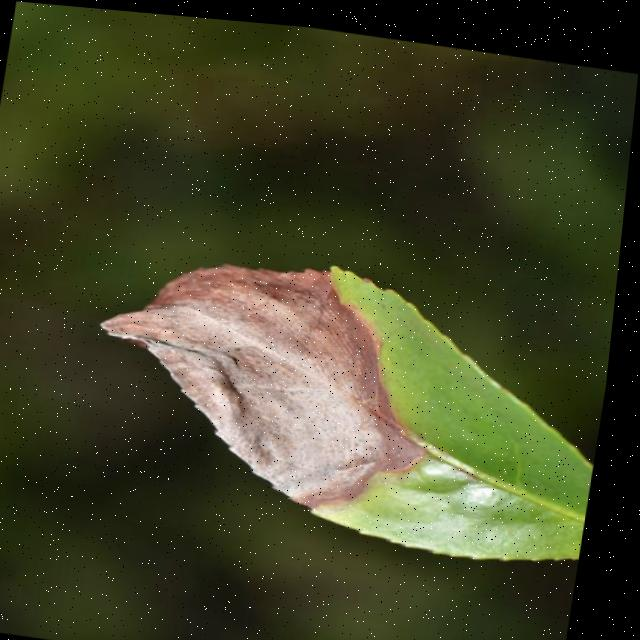Tea cloud leaf blight: (90, 228, 432, 513)
